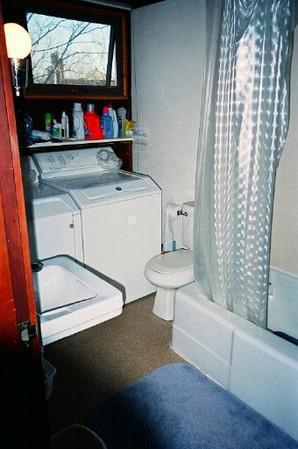Ducha: (192, 5, 296, 438)
Electrodomestico: (45, 156, 157, 295)
Lavamanos: (31, 259, 120, 321)
Sanitario: (138, 209, 203, 323)
Ventana: (25, 12, 124, 91)
